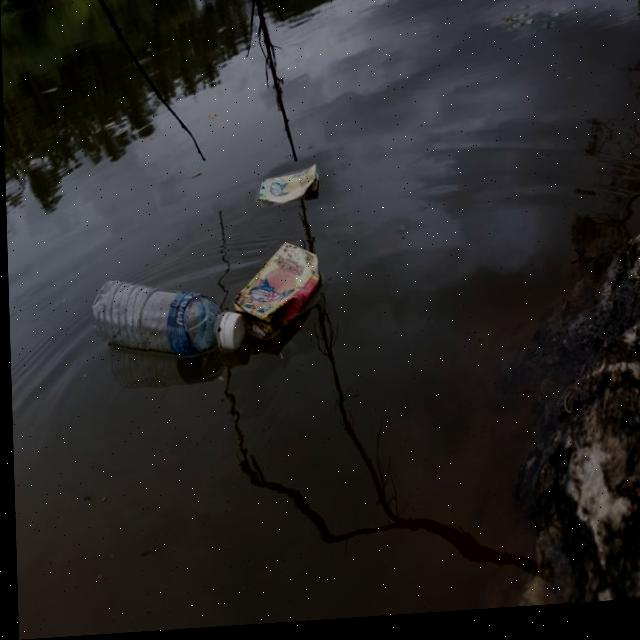paper: (243, 231, 331, 339), (245, 161, 331, 218)
waterbottle: (90, 257, 240, 372)
